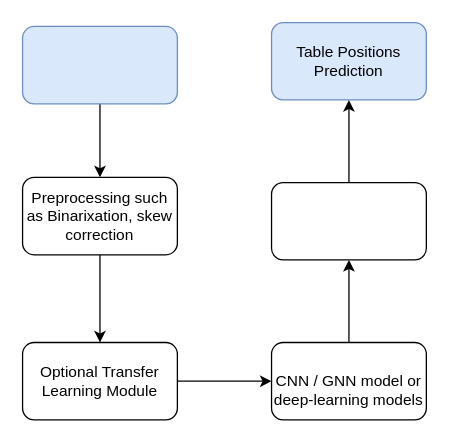
Some shapes in this 449 by 442 pixel diagram are drawn without their labels. Each missing label, with the centre of its shape:
"Document Image" goes at [99,64].
"Optional Extra ML-based module" goes at [348,220].
